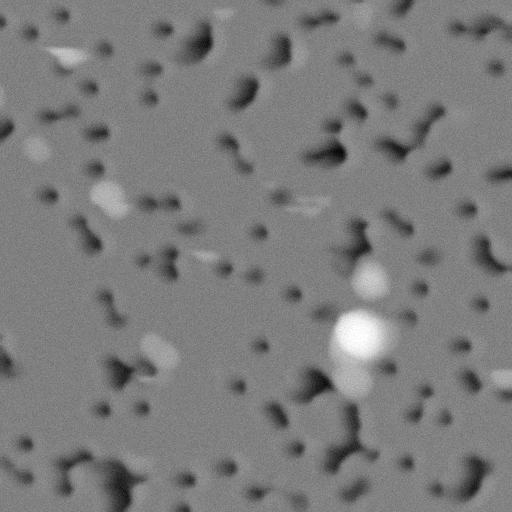Hole: (1, 427, 511, 511), (366, 95, 454, 171), (329, 45, 402, 127), (158, 183, 216, 231), (218, 61, 267, 116), (87, 279, 134, 335), (443, 11, 511, 49), (124, 237, 183, 280), (75, 117, 115, 179), (256, 20, 297, 78), (464, 232, 511, 281), (54, 213, 105, 258), (127, 56, 169, 109), (297, 133, 355, 171), (216, 123, 256, 178), (174, 16, 214, 70), (283, 360, 330, 404), (23, 94, 89, 125), (339, 209, 380, 255), (93, 347, 133, 392), (317, 230, 353, 277), (381, 204, 421, 244), (290, 6, 340, 37), (477, 154, 511, 195), (0, 320, 20, 387), (217, 366, 253, 400), (449, 194, 487, 226), (452, 362, 484, 400), (316, 101, 347, 139), (370, 31, 412, 58), (145, 9, 178, 43), (241, 216, 277, 247), (29, 181, 66, 211), (418, 156, 459, 183), (259, 393, 290, 426), (274, 270, 305, 303), (238, 257, 267, 289), (415, 239, 444, 270), (481, 52, 509, 84), (446, 328, 476, 356), (461, 291, 495, 315), (247, 326, 273, 357), (405, 274, 436, 300), (387, 0, 420, 21), (47, 5, 75, 29), (19, 24, 46, 47), (76, 75, 103, 97), (267, 185, 293, 207), (0, 103, 13, 146), (128, 399, 154, 420), (432, 405, 456, 427), (400, 403, 426, 423), (414, 379, 440, 397), (141, 190, 156, 217), (90, 399, 109, 419), (219, 256, 233, 281), (0, 10, 10, 32)
Particle: (321, 304, 407, 408), (347, 251, 400, 303), (16, 132, 62, 171), (138, 328, 181, 368), (345, 3, 376, 31)
Smear: (82, 179, 141, 220), (34, 43, 107, 71), (290, 184, 341, 206), (184, 243, 224, 267), (485, 364, 511, 393), (279, 203, 329, 216), (209, 3, 236, 23), (260, 175, 279, 190)
